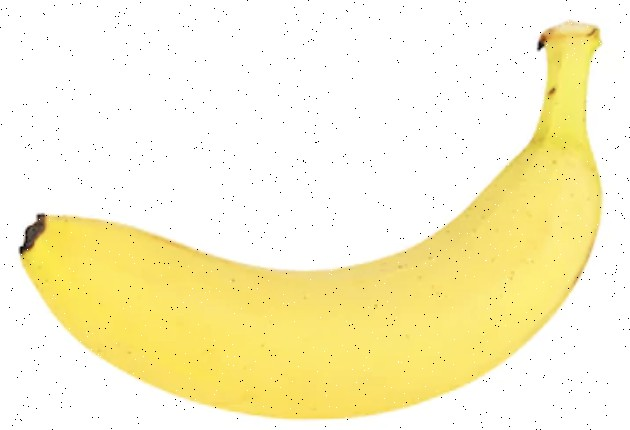fresh_banana: (19, 23, 602, 419)
